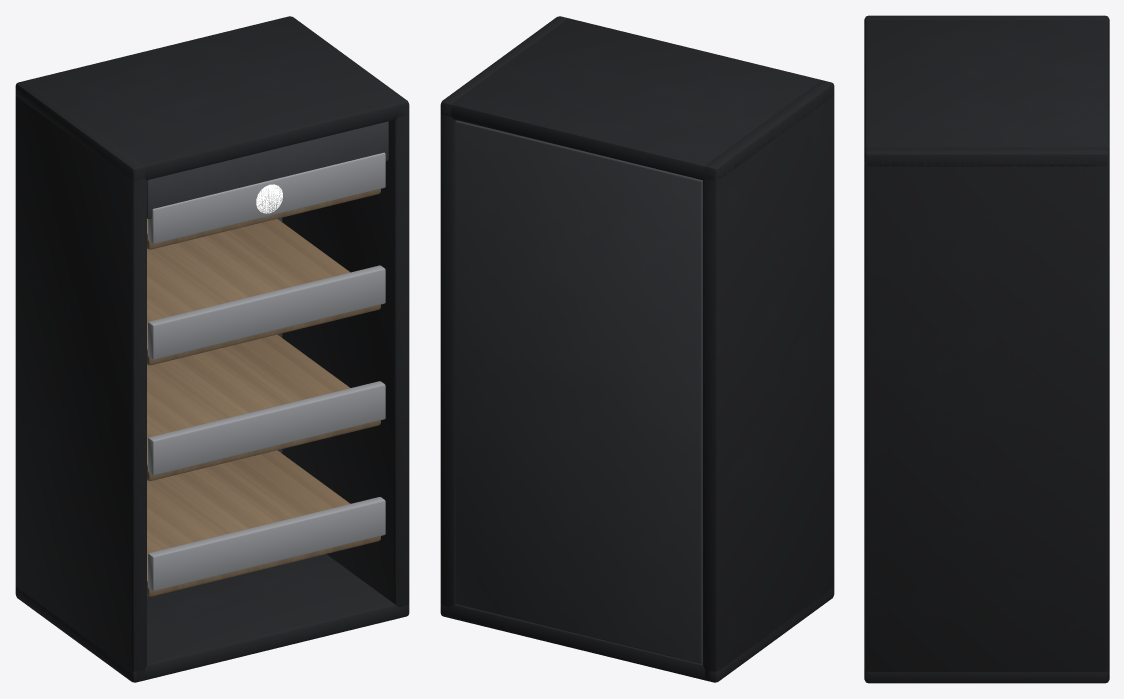
Rendered from pf_display_impulse_shelf_t2.glb.
3 renders of one model, left to right at view 1: azimuth 30°, elevation 25°; view 2: azimuth 150°, elevation 25°; view 3: azimuth 270°, elevation 25°, orthographic. The views are drawn at different scales.
Visible parts, largest first — view 1: Case_Left, Case_Top, Case_Right, Case_Base, Shelf_02, Shelf_01, Shelf_03, Shelf_Lip_01, Shelf_Lip_02, Shelf_Lip_03, Shelf_Lip_04, Header_Back (+2 smaller); view 2: Case_Back, Case_Left, Case_Top, Case_Right, Case_Base; view 3: Case_Right, Case_Top, Case_Base, Case_Left.
Part boxes in pixels (bbox=[...]): Case_Left: bbox=[15, 80, 146, 682]; Case_Top: bbox=[15, 18, 409, 180]; Case_Right: bbox=[282, 16, 409, 617]; Case_Base: bbox=[15, 554, 409, 682]; Shelf_02: bbox=[147, 334, 380, 480]; Shelf_01: bbox=[147, 450, 380, 596]; Shelf_03: bbox=[147, 219, 380, 365]; Shelf_Lip_01: bbox=[148, 497, 385, 591]; Shelf_Lip_02: bbox=[148, 381, 385, 475]; Shelf_Lip_03: bbox=[148, 265, 385, 359]; Shelf_Lip_04: bbox=[148, 152, 385, 243]; Header_Back: bbox=[147, 121, 388, 218]; Case_Back: bbox=[455, 120, 702, 663]; Case_Left: bbox=[703, 80, 834, 682]; Case_Top: bbox=[440, 18, 833, 180]; Case_Right: bbox=[440, 16, 567, 615]; Case_Base: bbox=[440, 587, 833, 682]; Case_Right: bbox=[864, 147, 1109, 681]; Case_Top: bbox=[864, 20, 1109, 166]; Case_Base: bbox=[864, 670, 1109, 683]; Case_Left: bbox=[864, 15, 1109, 23].
Size of the model in its own units: 0.62 by 1.1 by 0.46.
6 materials, 3 textured.
